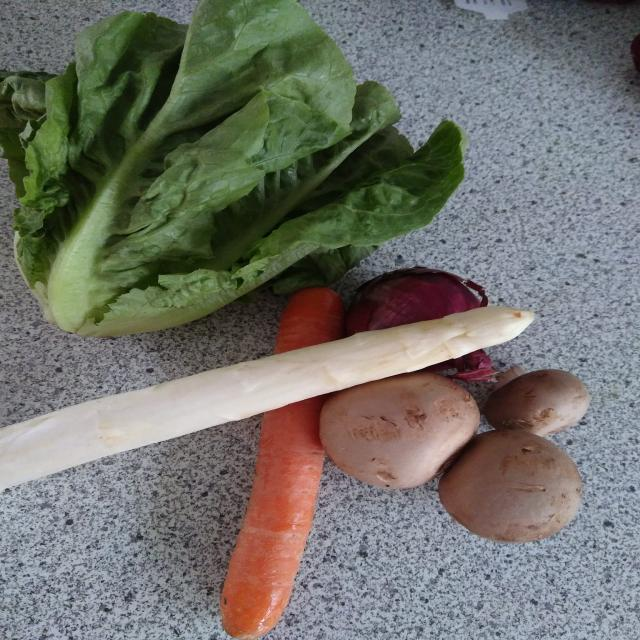Carrot: (222, 283, 351, 640)
Mushroom: (314, 368, 484, 492), (435, 429, 584, 546), (483, 368, 592, 434)
Onion: (342, 264, 503, 385)
